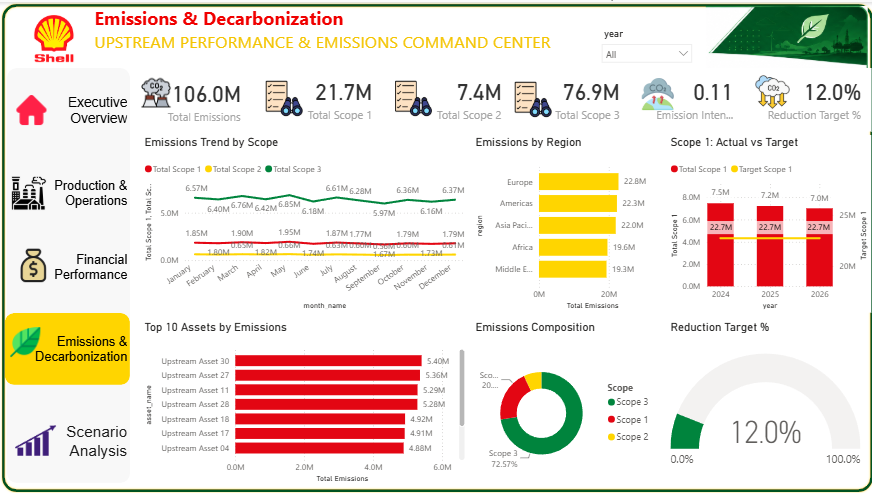

This screenshot's page, from the dashboard's own definition file:
{"tool":"powerbi","page":{"name":"Emissions & Decarbonization","canvas":[1280,720],"ordinal":3},"visuals":[{"type":"shape","box":[0,0,1280.5,720],"z":0},{"type":"shape","box":[10.2,96.6,180,607.3],"z":1000},{"type":"image","box":[24.9,0,108.3,106.8],"z":2000},{"type":"actionButton","box":[0,106.8,190.2,103.9],"z":3000},{"type":"actionButton","box":[0,226.8,190.2,105.4],"z":4000},{"type":"actionButton","box":[1.5,335.1,188.8,105.4],"z":5000},{"type":"actionButton","box":[0,455.1,190.2,105.4],"z":6000},{"type":"actionButton","box":[0,586.8,190.2,111.2],"z":7000},{"type":"image","box":[19,136.1,54.1,43.9],"z":8000},{"type":"image","box":[8.8,253.2,64.4,52.7],"z":9000},{"type":"image","box":[24.9,360,48.3,51.2],"z":10000},{"type":"image","box":[0,475.6,73.2,43.9],"z":11000},{"type":"image","box":[19,619,65.9,45.4],"z":12000},{"type":"image","box":[1023.6,5.5,256.4,90.9],"z":13000},{"type":"advanceCardE03760C5AB684758B56AA29F9E6C257B","fields":{"mainMeasure":["All_Measures.Total Emissions"]},"box":[206.3,99.5,161,92.2],"z":14000},{"type":"clusteredBarChart","title":"Emissions by Region","fields":{"Category":["dim_asset.region"],"Y":["All_Measures.Total Emissions"]},"box":[690.7,194.6,272.2,260.5],"z":15000},{"type":"lineChart","title":"Emissions Trend by Scope","fields":{"Category":["dim_date.month_name"],"Y":["All_Measures.Total Scope 1","All_Measures.Total Scope 2","All_Measures.Total Scope 3"]},"box":[206.3,194.6,478.5,260.5],"z":16000},{"type":"lineClusteredColumnComboChart","title":"Scope 1: Actual vs Target","fields":{"Category":["dim_date.year"],"Y":["All_Measures.Total Scope 1"],"Y2":["All_Measures.Target Scope 1"]},"box":[976.1,194.6,298.5,260.5],"z":17000},{"type":"clusteredBarChart","title":"Top 10 Assets by Emissions","fields":{"Category":["dim_asset.asset_name"],"Y":["All_Measures.Total Emissions"]},"box":[206.3,465.4,478.5,242.9],"z":18000},{"type":"donutChart","title":"Emissions Composition","fields":{"Category":["EmissionScope.Scope"],"Y":["All_Measures.Emissions by Scope"]},"box":[690.7,465.4,272.2,242.9],"z":19000},{"type":"advanceCardE03760C5AB684758B56AA29F9E6C257B","fields":{"mainMeasure":["All_Measures.Total Scope 1"]},"box":[385.5,96.4,174.5,92.7],"z":20000},{"type":"advanceCardE03760C5AB684758B56AA29F9E6C257B","fields":{"mainMeasure":["All_Measures.Total Scope 2"]},"box":[578.2,96.4,170.9,92.7],"z":21000},{"type":"advanceCardE03760C5AB684758B56AA29F9E6C257B","fields":{"mainMeasure":["All_Measures.Total Scope 3"]},"box":[765.5,96.4,156.4,92.7],"z":22000},{"type":"advanceCardE03760C5AB684758B56AA29F9E6C257B","fields":{"mainMeasure":["All_Measures.Emission Intensity"]},"box":[934.5,96.4,152.7,92.7],"z":23000},{"type":"advanceCardE03760C5AB684758B56AA29F9E6C257B","fields":{"mainMeasure":["All_Measures.Reduction Target %"]},"box":[1100,96.4,174.5,92.7],"z":24000},{"type":"gauge","fields":{"Y":["All_Measures.Reduction Target %"]},"box":[976.1,465.4,288.3,238.5],"z":25000},{"type":"textbox","box":[133.2,5.9,902.9,90.7],"z":25001},{"type":"slicer","fields":{"Values":["dim_date.year"]},"box":[870.7,33.7,152.2,62.9],"z":25002},{"type":"textbox","box":[133.2,0,737.6,86.3],"z":25003}]}

Visuals, with their boxes in screenshot pixels (x1, y1, x2, y2), scaled from the page's 1280x720 canvas onto the 872x493 screenshot:
shape: [left=0, top=0, right=871, bottom=492]
shape: [left=7, top=66, right=130, bottom=482]
image: [left=17, top=0, right=91, bottom=73]
actionButton: [left=0, top=73, right=130, bottom=144]
actionButton: [left=0, top=155, right=130, bottom=227]
actionButton: [left=1, top=229, right=130, bottom=302]
actionButton: [left=0, top=312, right=130, bottom=384]
actionButton: [left=0, top=402, right=130, bottom=478]
image: [left=13, top=93, right=50, bottom=123]
image: [left=6, top=173, right=50, bottom=209]
image: [left=17, top=246, right=50, bottom=282]
image: [left=0, top=326, right=50, bottom=356]
image: [left=13, top=424, right=58, bottom=455]
image: [left=697, top=4, right=871, bottom=66]
advanceCardE03760C5AB684758B56AA29F9E6C257B - All_Measures.Total Emissions: [left=141, top=68, right=250, bottom=131]
"Emissions by Region" clusteredBarChart: [left=471, top=133, right=656, bottom=312]
"Emissions Trend by Scope" lineChart: [left=141, top=133, right=467, bottom=312]
"Scope 1: Actual vs Target" lineClusteredColumnComboChart: [left=665, top=133, right=868, bottom=312]
"Top 10 Assets by Emissions" clusteredBarChart: [left=141, top=319, right=467, bottom=485]
"Emissions Composition" donutChart: [left=471, top=319, right=656, bottom=485]
advanceCardE03760C5AB684758B56AA29F9E6C257B - All_Measures.Total Scope 1: [left=263, top=66, right=382, bottom=129]
advanceCardE03760C5AB684758B56AA29F9E6C257B - All_Measures.Total Scope 2: [left=394, top=66, right=510, bottom=129]
advanceCardE03760C5AB684758B56AA29F9E6C257B - All_Measures.Total Scope 3: [left=521, top=66, right=628, bottom=129]
advanceCardE03760C5AB684758B56AA29F9E6C257B - All_Measures.Emission Intensity: [left=637, top=66, right=741, bottom=129]
advanceCardE03760C5AB684758B56AA29F9E6C257B - All_Measures.Reduction Target %: [left=749, top=66, right=868, bottom=129]
gauge - All_Measures.Reduction Target %: [left=665, top=319, right=861, bottom=482]
textbox: [left=91, top=4, right=706, bottom=66]
slicer - dim_date.year: [left=593, top=23, right=697, bottom=66]
textbox: [left=91, top=0, right=593, bottom=59]
